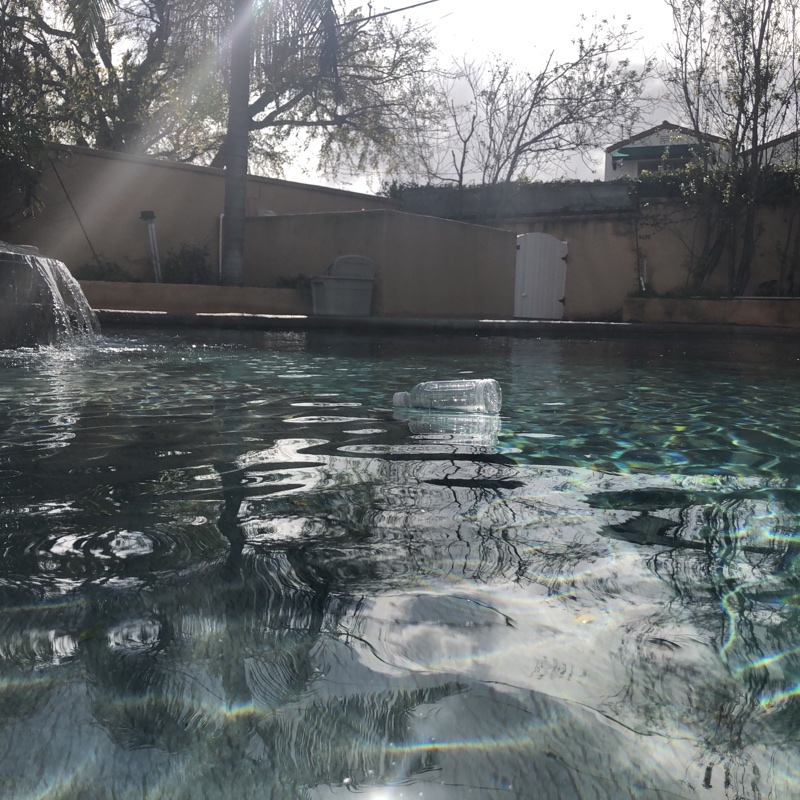Plastic Bottle: (387, 375, 507, 423)
